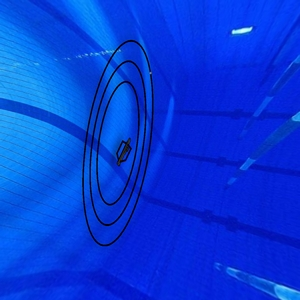circle: (79, 38, 156, 253)
submarine: (113, 135, 135, 170)
